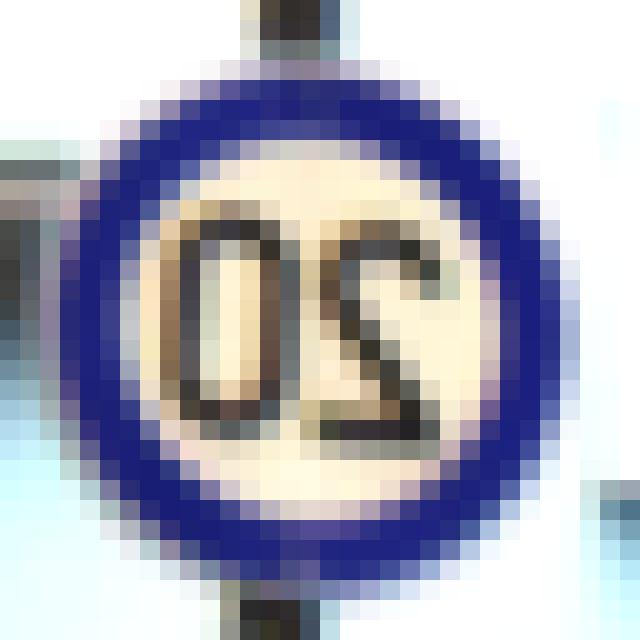SPEED LIMIT 20: (43, 77, 587, 572)
